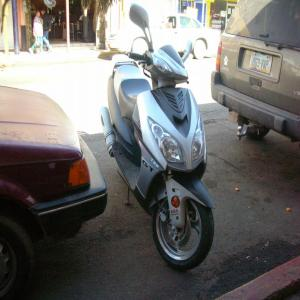Vehicle-registration-plate: (249, 53, 274, 75)
